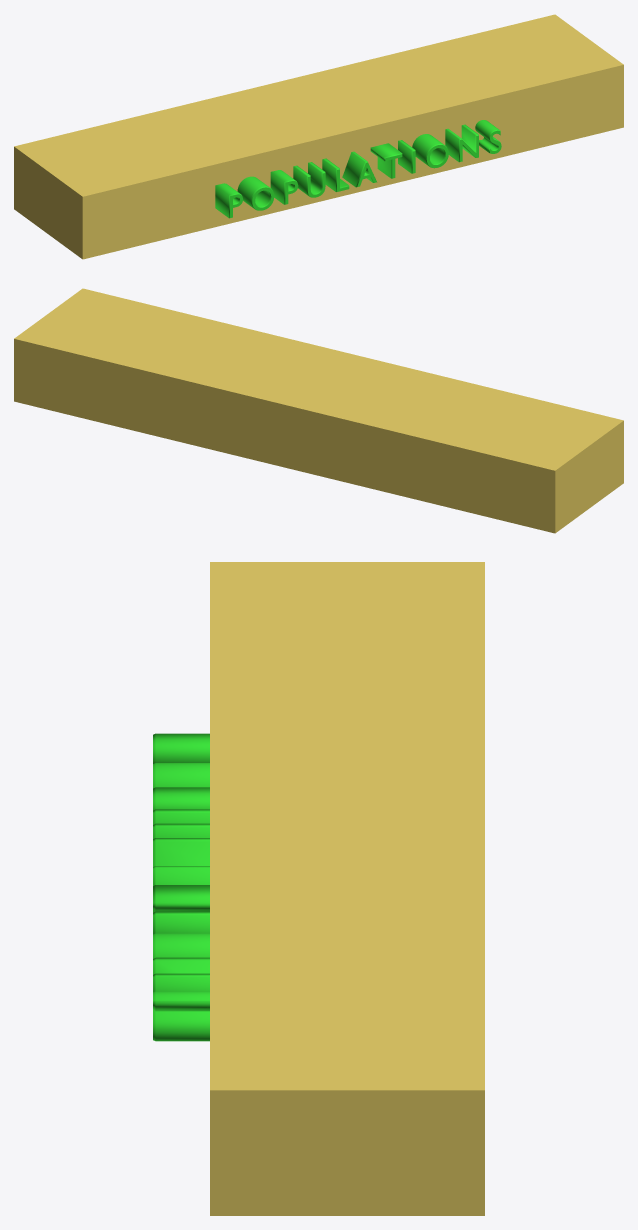
File: population.gltf
The picture shows the model from 3 angles, top to bottom: view 1: azimuth 30°, elevation 25°; view 2: azimuth 150°, elevation 25°; view 3: azimuth 270°, elevation 25°; orthographic projection. The views are drawn at different scales.
Parts seen in each view (by area): view 1: Cube.005, CEELS.005; view 2: Cube.005; view 3: Cube.005, CEELS.005.
Boxes of the visible parts, left/top/right/bottom form: Cube.005: left=14, top=14, right=623, bottom=259; CEELS.005: left=215, top=120, right=501, bottom=218; Cube.005: left=14, top=288, right=623, bottom=533; Cube.005: left=210, top=562, right=484, bottom=1215; CEELS.005: left=153, top=733, right=209, bottom=1041.
Size of the model in its own units: 2.79 by 0.3096 by 0.7423.
